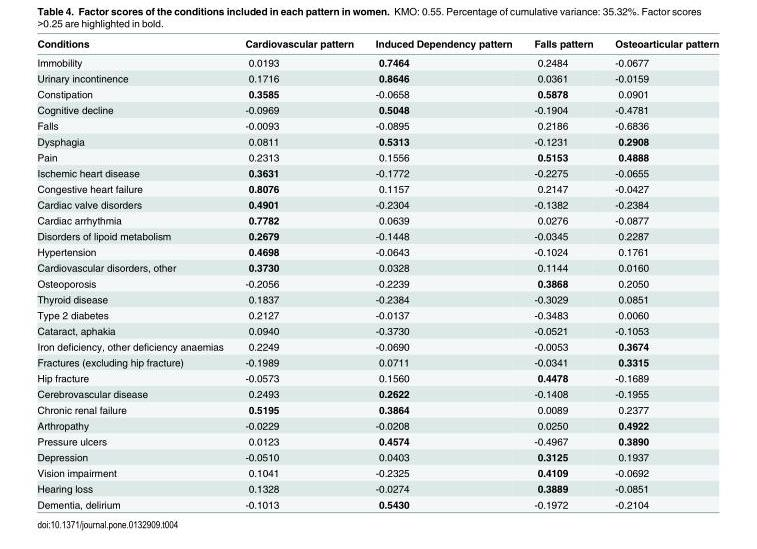table: (36, 37, 718, 509)
table column: (36, 37, 233, 509), (363, 37, 522, 509), (233, 37, 363, 509), (603, 37, 718, 509), (522, 37, 603, 509)
table column header: (36, 37, 718, 52)
table row: (36, 52, 718, 69), (36, 69, 718, 85), (36, 85, 718, 101), (36, 101, 718, 117), (36, 117, 718, 133), (36, 148, 718, 164), (36, 164, 718, 180), (36, 180, 718, 196), (36, 211, 718, 227), (36, 227, 718, 243), (36, 243, 718, 259), (36, 259, 718, 275), (36, 290, 718, 306), (36, 306, 718, 322), (36, 322, 718, 338), (36, 353, 718, 369), (36, 369, 718, 385), (36, 385, 718, 401), (36, 401, 718, 417), (36, 432, 718, 448), (36, 448, 718, 464), (36, 464, 718, 480), (36, 480, 718, 496), (36, 37, 718, 52), (36, 133, 718, 148), (36, 196, 718, 211), (36, 275, 718, 290), (36, 338, 718, 353), (36, 417, 718, 432), (36, 496, 718, 509)
